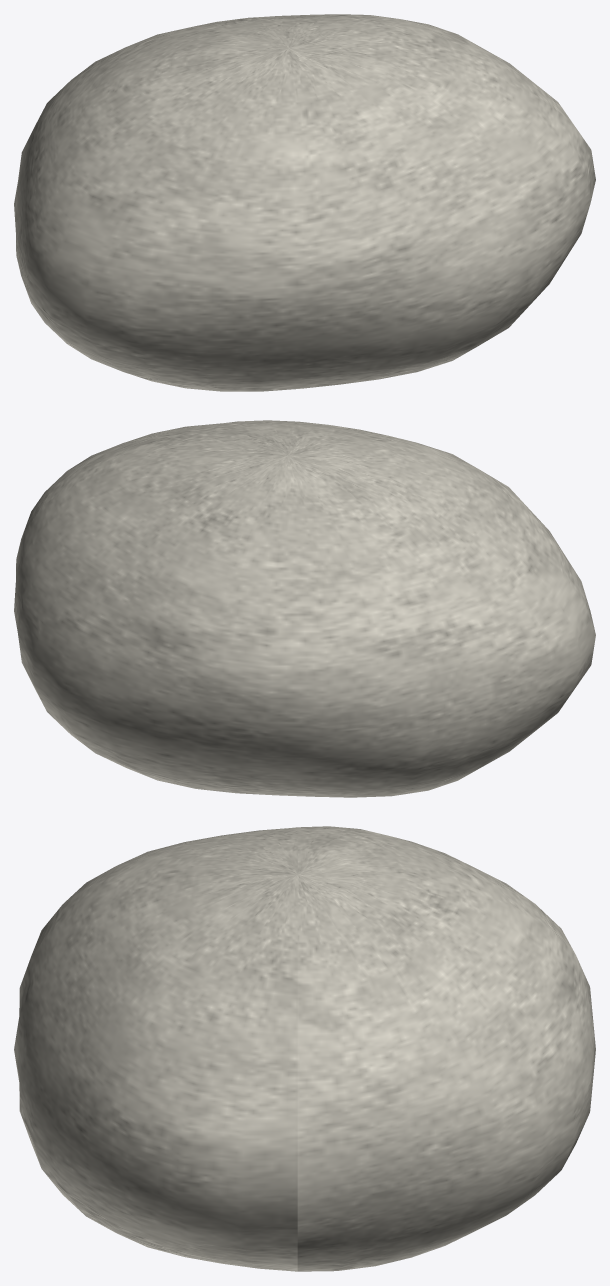
The model's file is guti_pebble_light.glb.
The picture shows the model from 3 angles, top to bottom: view 1: azimuth 30°, elevation 25°; view 2: azimuth 150°, elevation 25°; view 3: azimuth 270°, elevation 25°; orthographic projection. The views are drawn at different scales.
Parts seen in each view (by area): view 1: guti_pebble_light; view 2: guti_pebble_light; view 3: guti_pebble_light.
Boxes of the visible parts, <box> form: guti_pebble_light: <box>14,14,595,391</box>; guti_pebble_light: <box>14,420,595,797</box>; guti_pebble_light: <box>14,826,595,1271</box>.
Size of the model in its own units: 0.025 by 0.012 by 0.021.
Materials: 1 (1 with a texture image).
